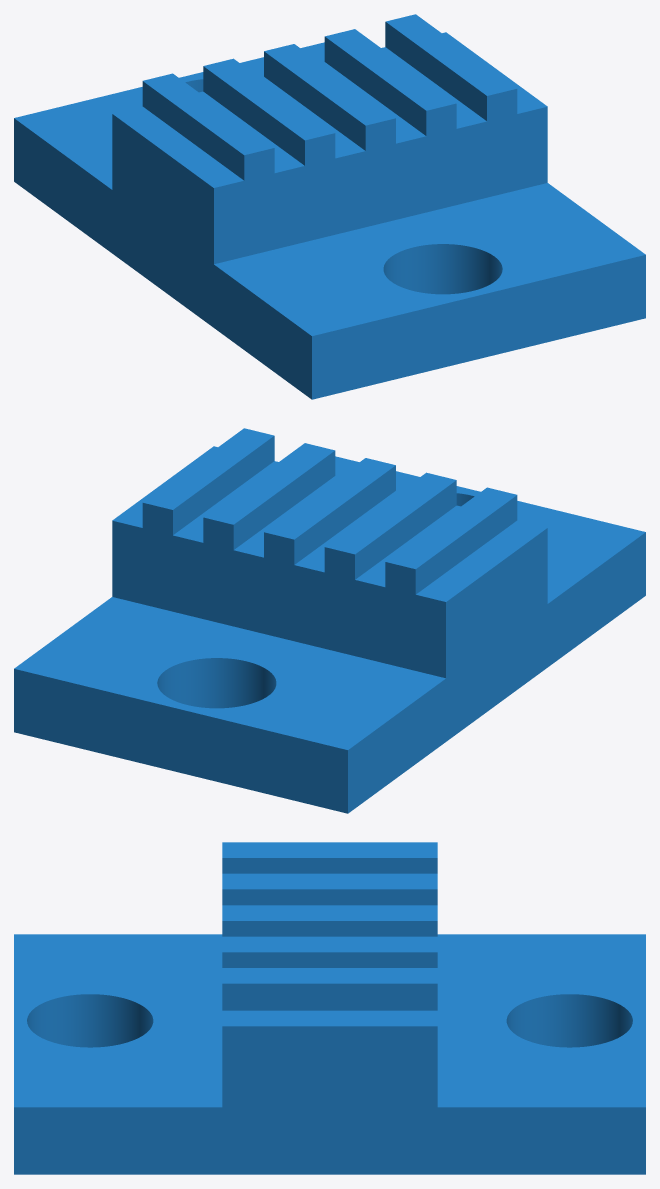
Rendered from eixo_presilha.glb.
3 renders of one model, top to bottom at view 1: azimuth 30°, elevation 25°; view 2: azimuth 150°, elevation 25°; view 3: azimuth 270°, elevation 25°, orthographic. The views are drawn at different scales.
Parts seen in each view (by area): view 1: eixo_presilha; view 2: eixo_presilha; view 3: eixo_presilha.
Boxes of the visible parts, x1,y1,x2,y2 form: eixo_presilha: (14,14,645,399); eixo_presilha: (14,428,645,813); eixo_presilha: (14,842,645,1174).
Bounding box in the file's own units: 11 × 5.2 × 17.
